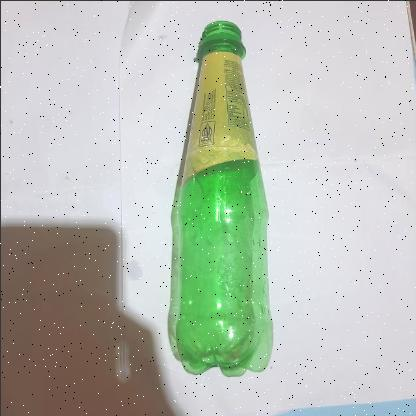Plastic Bottle: (165, 20, 273, 374)
